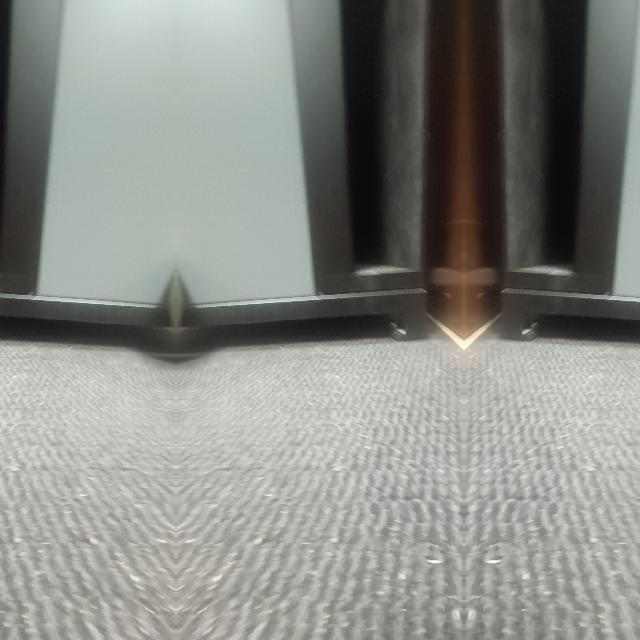obstacle: (175, 104, 438, 340), (0, 103, 174, 340), (488, 103, 640, 340)
